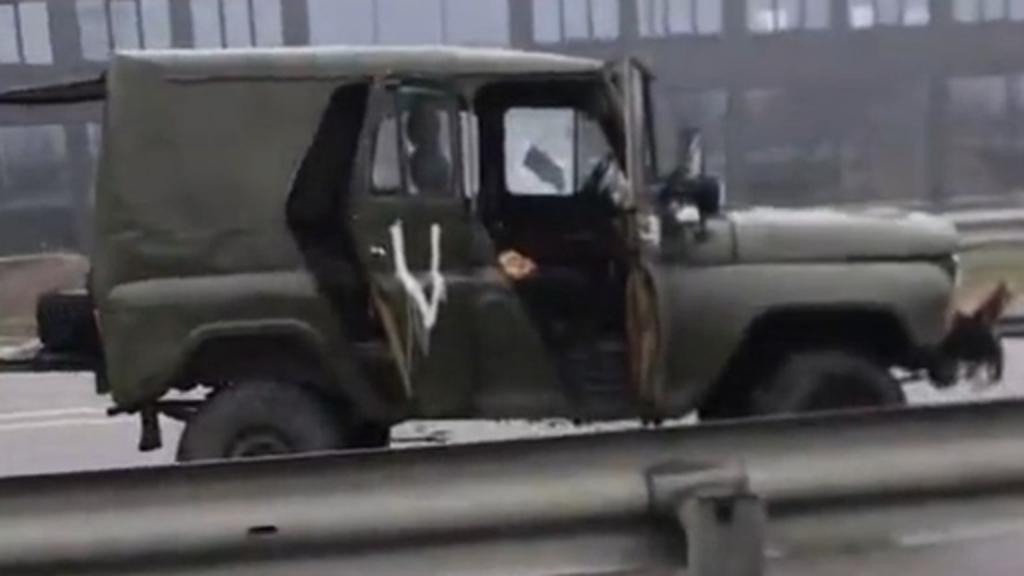CAR: (88, 38, 1004, 488)
